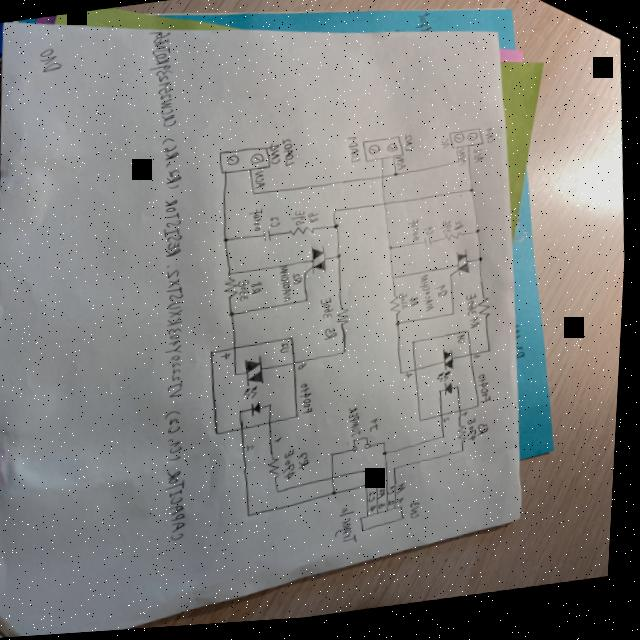capacitor: (263, 231, 276, 246), (423, 240, 436, 254)
crossover: (382, 178, 388, 184), (336, 480, 342, 484), (384, 207, 390, 211)
junction: (231, 313, 240, 321), (224, 238, 232, 246), (470, 192, 479, 199), (335, 227, 343, 234), (394, 175, 402, 182), (480, 261, 487, 268), (252, 192, 259, 199), (386, 455, 394, 461), (390, 249, 397, 255), (477, 234, 484, 240), (307, 301, 314, 307), (339, 256, 345, 263), (229, 272, 235, 278), (336, 494, 343, 499), (333, 456, 340, 461), (281, 492, 288, 497), (377, 472, 383, 477), (464, 454, 470, 459), (252, 515, 258, 520), (399, 326, 405, 331), (490, 354, 496, 359), (393, 280, 399, 285), (334, 212, 341, 216), (346, 354, 352, 358), (445, 440, 451, 444), (397, 471, 403, 475), (369, 488, 375, 492), (456, 165, 462, 169), (453, 316, 459, 320), (386, 446, 391, 450), (403, 376, 408, 380)
resistor: (270, 457, 288, 483), (480, 300, 497, 326), (225, 279, 242, 303), (289, 228, 321, 240), (459, 428, 475, 450), (339, 310, 355, 331), (444, 236, 469, 248), (392, 299, 405, 321)
switch: (356, 441, 378, 457)
terminal: (217, 146, 278, 180), (362, 138, 407, 169), (364, 510, 412, 537), (446, 129, 488, 157)
text: (127, 27, 216, 548), (337, 510, 365, 552), (418, 278, 441, 319), (279, 267, 297, 306), (284, 452, 303, 486), (348, 410, 367, 443), (302, 385, 319, 419), (346, 139, 365, 169), (282, 139, 299, 171), (265, 143, 285, 170), (465, 297, 485, 323), (249, 211, 269, 236), (407, 221, 425, 248), (481, 378, 496, 409), (322, 300, 340, 325), (469, 422, 484, 450), (240, 281, 254, 305), (292, 213, 310, 231), (300, 454, 316, 474), (398, 296, 414, 315), (255, 171, 268, 192), (326, 330, 343, 346), (441, 224, 456, 242), (414, 505, 427, 525), (480, 427, 496, 443), (436, 288, 453, 303), (409, 299, 425, 314), (395, 160, 409, 177), (452, 224, 469, 238), (474, 152, 487, 170), (404, 138, 416, 157), (424, 228, 438, 244), (469, 322, 486, 335), (486, 132, 498, 150), (458, 153, 469, 172), (372, 422, 385, 438), (253, 284, 267, 298), (399, 486, 412, 501), (271, 218, 285, 231), (309, 215, 322, 228), (282, 344, 295, 357), (295, 275, 307, 289), (382, 491, 393, 505), (441, 141, 452, 155), (371, 495, 382, 508), (459, 339, 471, 350), (248, 445, 261, 455), (407, 375, 419, 385), (370, 508, 383, 517), (392, 490, 402, 501), (277, 438, 288, 448), (224, 354, 236, 363), (301, 366, 311, 374), (401, 502, 411, 509), (393, 503, 401, 511), (477, 359, 485, 366), (384, 507, 392, 514), (464, 416, 472, 422), (449, 422, 455, 429)
